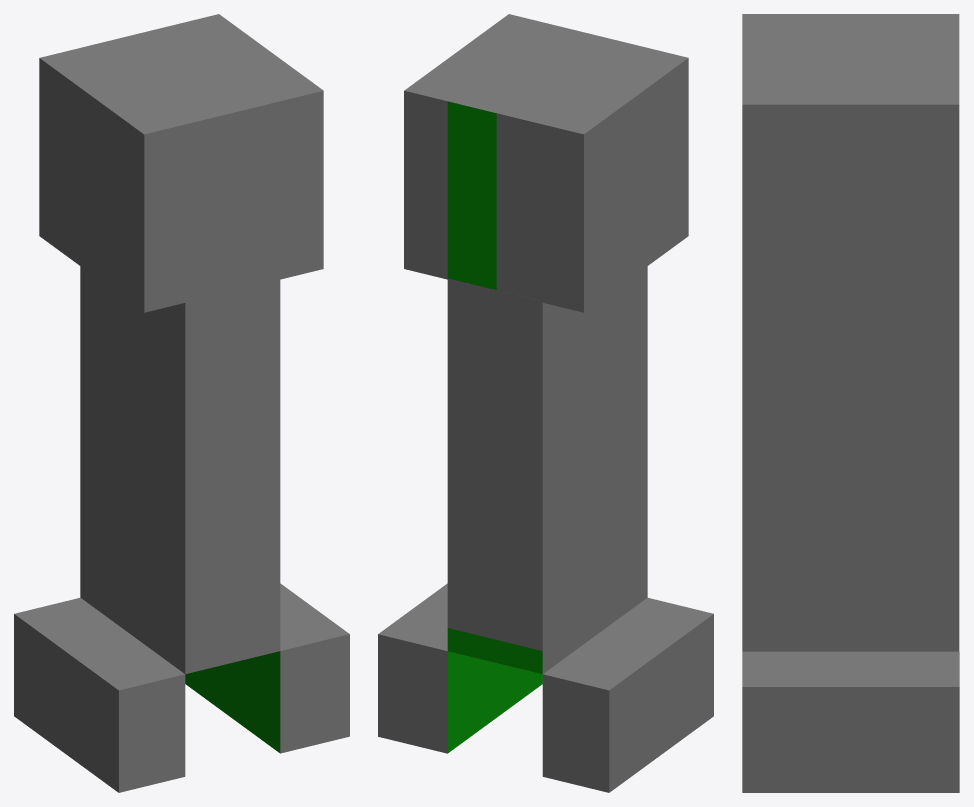
The model's file is mon1.glb.
3 views of the same model, side by side, from view 1: azimuth 30°, elevation 25°; view 2: azimuth 150°, elevation 25°; view 3: azimuth 270°, elevation 25° (orthographic). The views are drawn at different scales.
Size of the model in its own units: 2.92 by 7.88 by 2.3.
